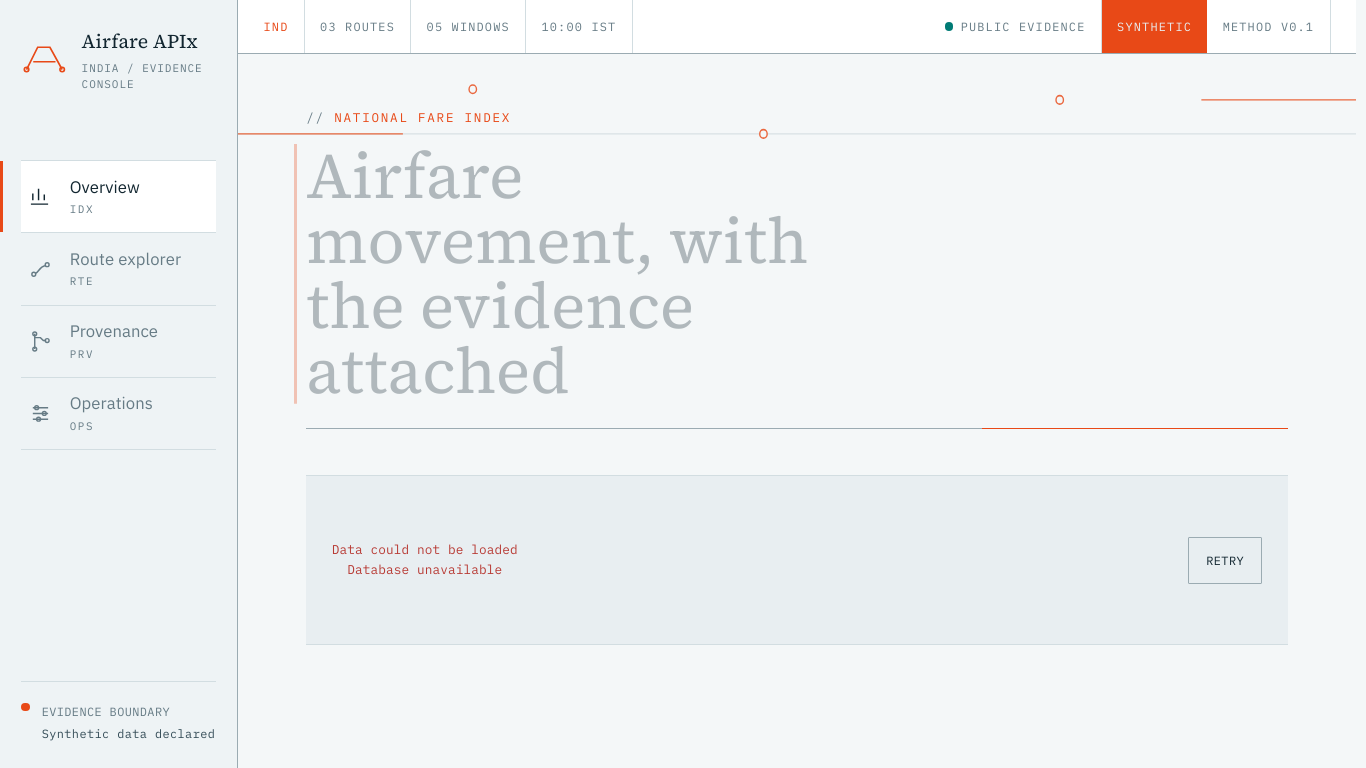
it: Airfare APIx analytics console › keeps API failure visible and retries
Check: the message shows "Database unavailable", box left=347, top=561, right=502, bottom=578
What coordinates should you click on to do the following:
click the button "Retry"
I would click on:
 (1225, 560)
Its box is left=1188, top=537, right=1262, bottom=584.
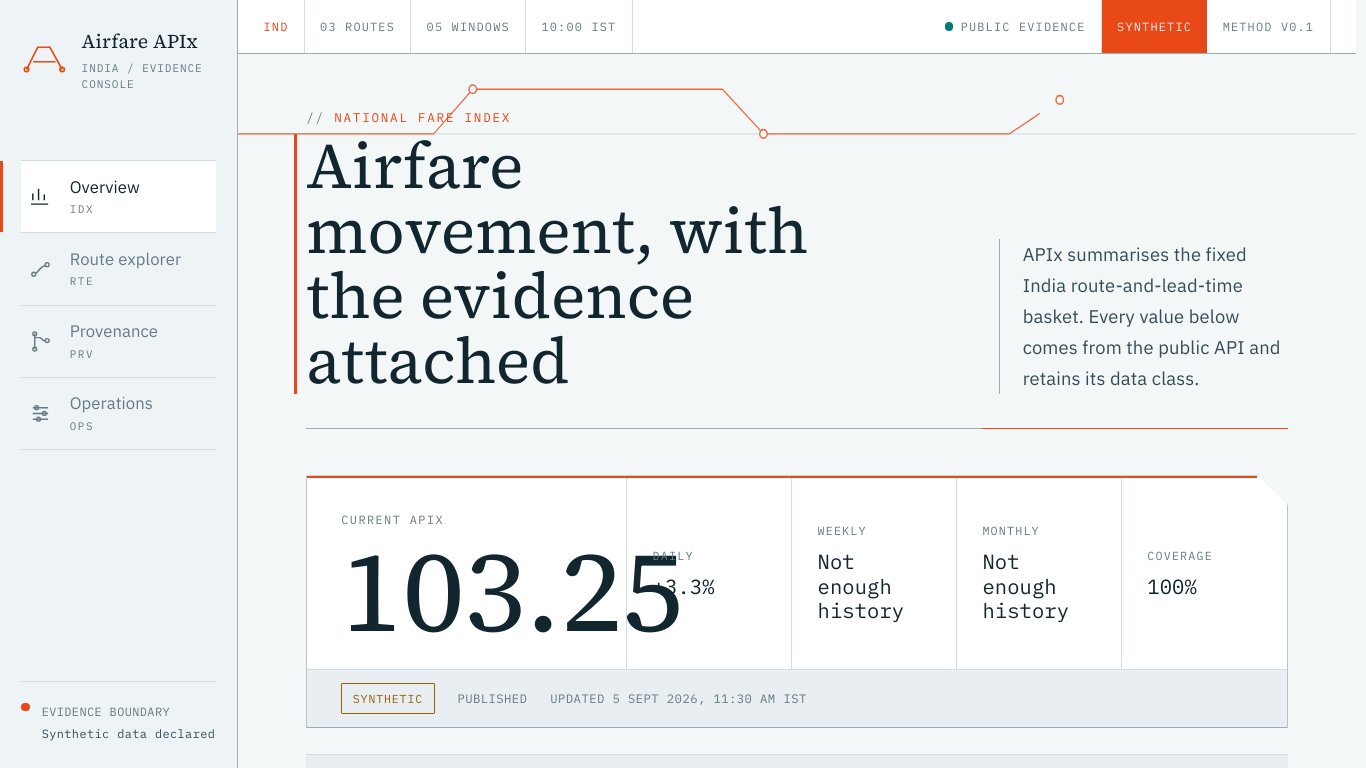
Check: the text "103.25" is shown, box left=341, top=541, right=592, bottom=640
